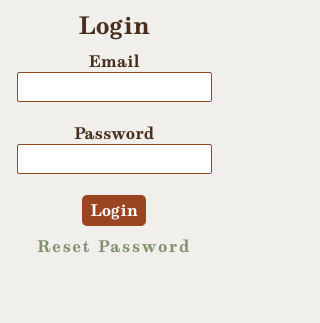
Test case: Login Page › shows fallback error message when login fails without backend response
The image size is (320, 323).
Type "test@test.com" into the field labelled "Email".
click(114, 87); type("test@test.com")  # box x1=16 y1=72 x2=212 y2=102
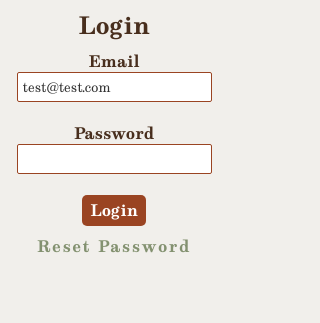
Type "password123" into the password field labelled "Password".
click(114, 159); type("password123")  # box x1=16 y1=144 x2=212 y2=174
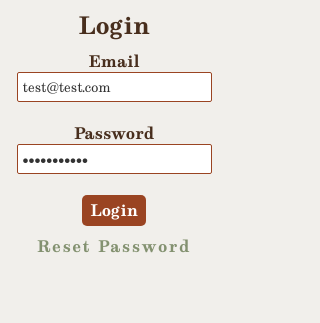
Click the button "Login".
click(114, 210)  # box x1=82 y1=195 x2=146 y2=226
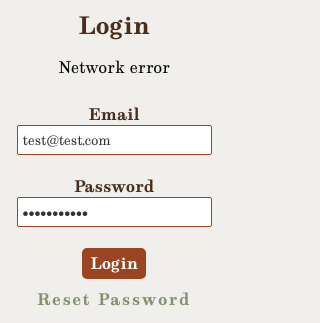
Check: the text "Network error" is shown, box x1=58 y1=57 x2=170 y2=78
